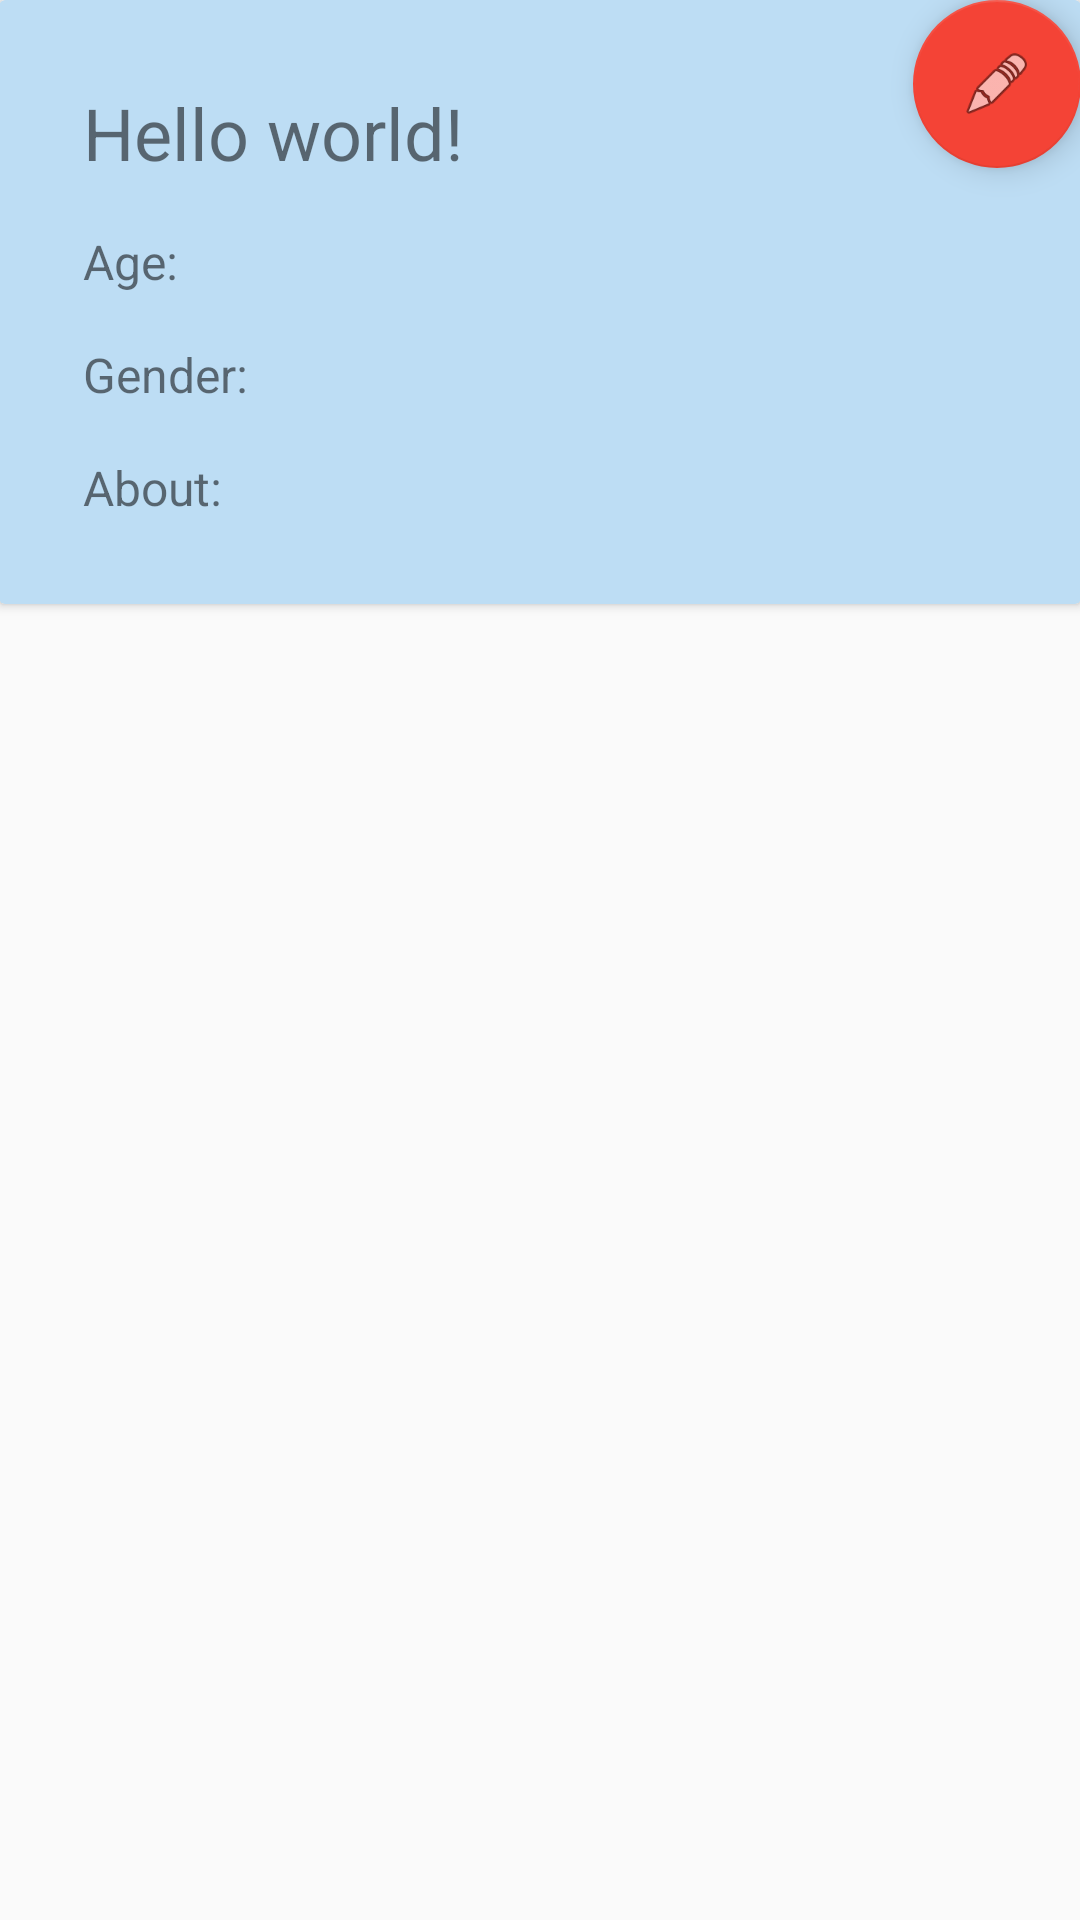

Screen size 1080×1920. Icon name, then its center in pixels as point (x, y):
edit: point (996, 84)
